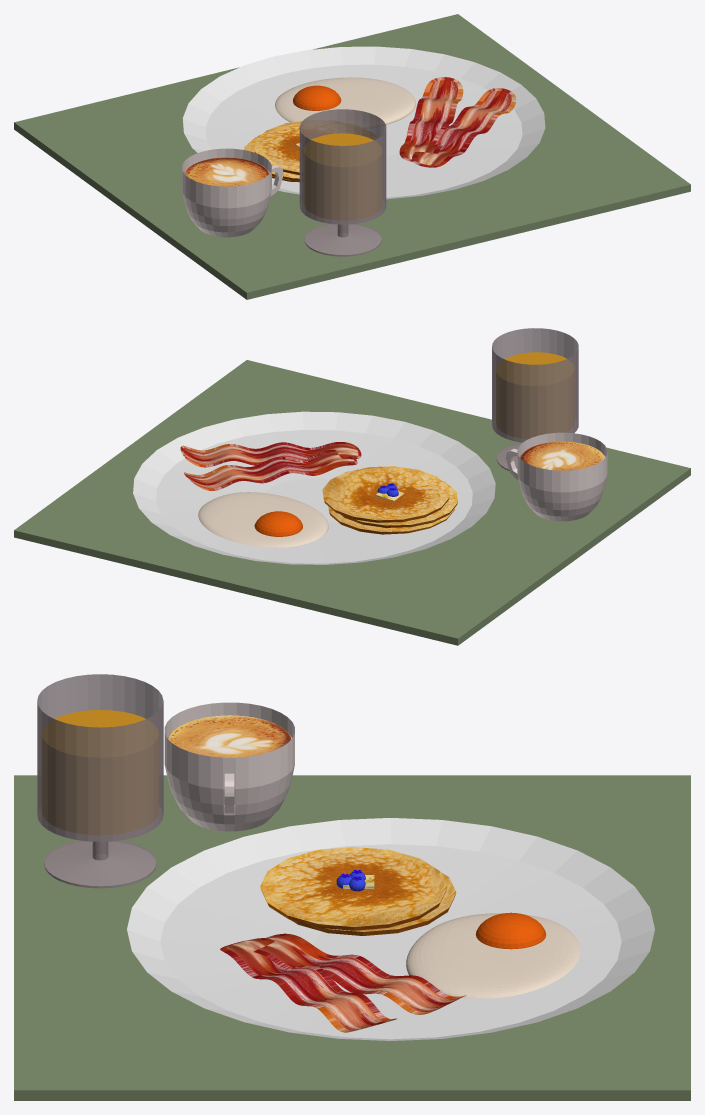
The model's file is menu1America.glb.
The picture shows the model from 3 angles, top to bottom: view 1: azimuth 30°, elevation 25°; view 2: azimuth 150°, elevation 25°; view 3: azimuth 270°, elevation 25°; orthographic projection. The views are drawn at different scales.
Parts seen in each view (by area): view 1: Cube, Cylinder, Cylinder.010, Cylinder.011, Circle, Plane.002, Plane, Plane.001, Sphere.003, Cylinder.012, Sphere; view 2: Cube, Cylinder, Cylinder.010, Cylinder.011, Sphere.003, Circle, Plane.002, Plane.001, Plane, Cylinder.012, Sphere, Sphere.002 (+1 smaller); view 3: Cube, Cylinder, Cylinder.010, Cylinder.011, Sphere.003, Circle, Plane.002, Plane.001, Plane, Cylinder.012, Sphere, Sphere.001.
Part boxes in pixels (<box>): Cube: <box>14,14,690,299</box>; Cylinder: <box>182,46,545,199</box>; Cylinder.010: <box>299,109,386,256</box>; Cylinder.011: <box>304,133,381,219</box>; Circle: <box>181,148,283,237</box>; Plane.002: <box>275,77,415,128</box>; Plane: <box>412,88,516,167</box>; Plane.001: <box>399,77,463,161</box>; Sphere.003: <box>254,120,376,174</box>; Cylinder.012: <box>184,157,269,186</box>; Sphere: <box>293,85,341,110</box>; Cube: <box>14,360,690,645</box>; Cylinder: <box>133,411,495,564</box>; Cylinder.010: <box>492,328,578,470</box>; Cylinder.011: <box>496,352,573,438</box>; Sphere.003: <box>322,466,449,522</box>; Circle: <box>506,432,607,521</box>; Plane.002: <box>198,492,328,547</box>; Plane.001: <box>184,449,357,490</box>; Plane: <box>180,442,361,467</box>; Cylinder.012: <box>519,441,605,470</box>; Sphere: <box>254,511,302,536</box>; Sphere.002: <box>341,481,457,527</box>; Cube: <box>14,775,690,1100</box>; Cylinder: <box>127,818,654,1040</box>; Cylinder.010: <box>37,674,163,888</box>; Cylinder.011: <box>42,710,158,834</box>; Sphere.003: <box>260,848,447,930</box>; Circle: <box>164,702,294,831</box>; Plane.002: <box>406,913,580,998</box>; Plane.001: <box>253,933,466,1014</box>; Plane: <box>220,938,397,1032</box>; Cylinder.012: <box>167,715,292,757</box>; Sphere: <box>475,912,546,949</box>; Sphere.001: <box>291,872,456,935</box>.
Size of the model in its own units: 22.67 by 5.85 by 20.59.
24 materials, 8 textured.
